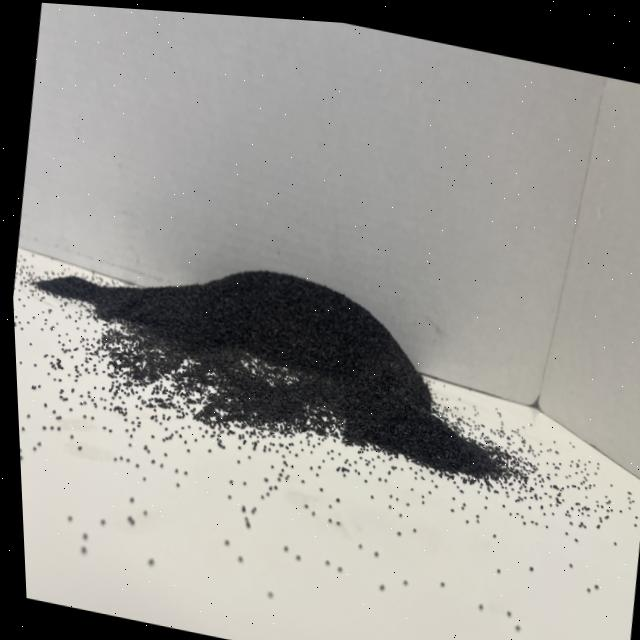Poppy Seeds: (55, 220, 502, 504)
